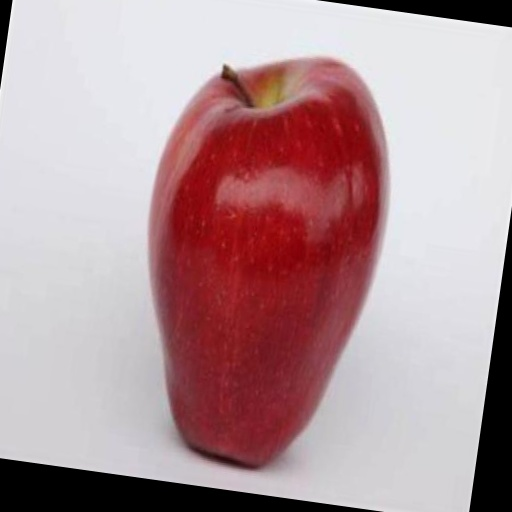fruit: (148, 58, 387, 466)
